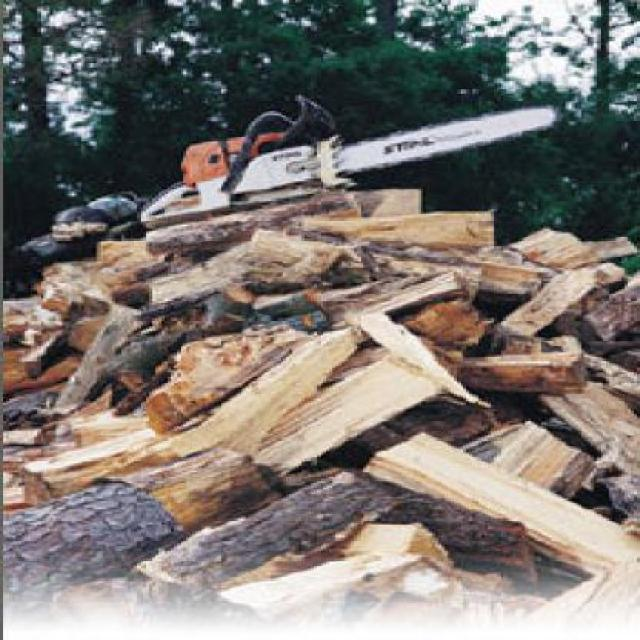Chainsaw: (134, 97, 555, 235)
